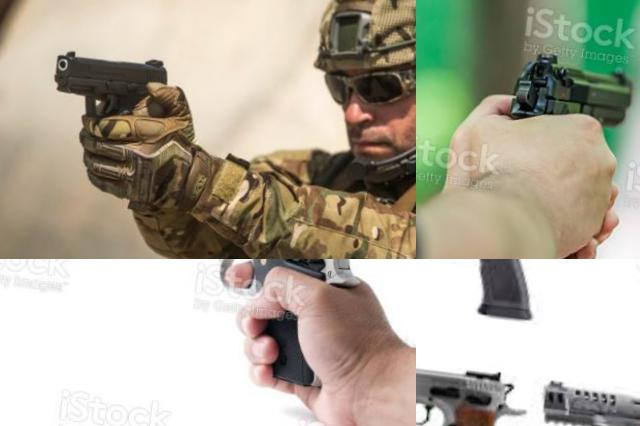handgun: (168, 259, 374, 396), (501, 44, 640, 150), (45, 44, 174, 140), (416, 259, 553, 328), (416, 347, 534, 426), (550, 259, 640, 351)
